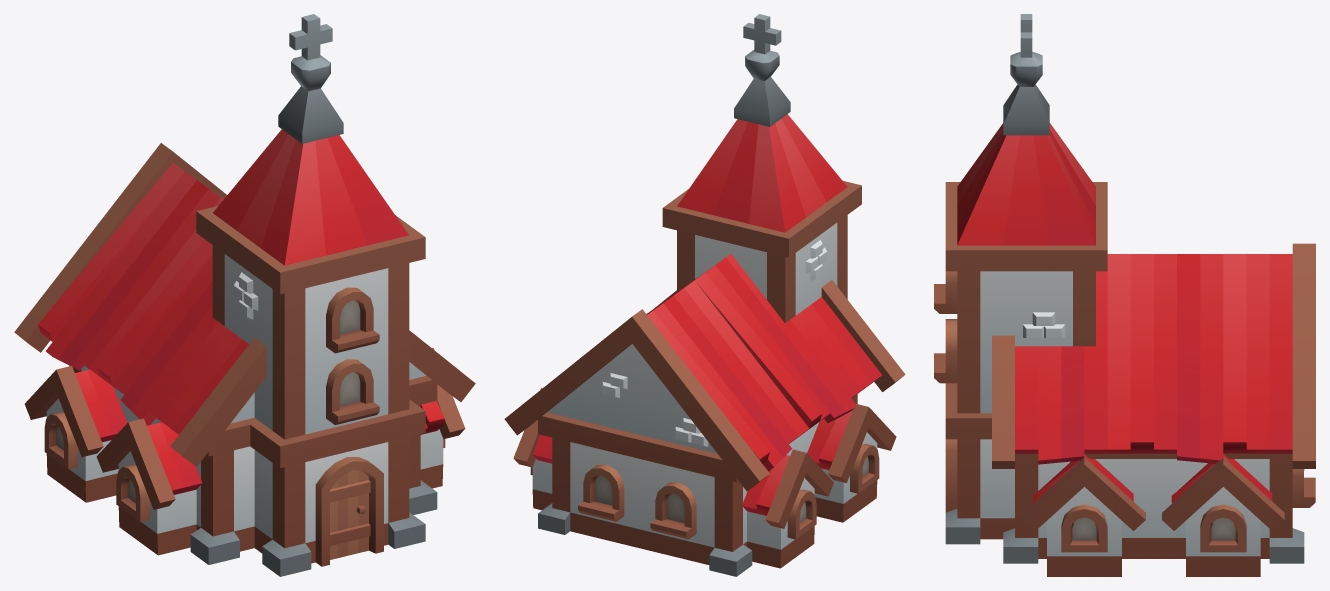
File: church.glb
3 renders of one model, left to right at view 1: azimuth 30°, elevation 25°; view 2: azimuth 150°, elevation 25°; view 3: azimuth 270°, elevation 25°, orthographic. The views are drawn at different scales.
Parts seen in each view (by area): view 1: church; view 2: church; view 3: church.
Boxes of the visible parts, bbox=[...] form: church: bbox=[14, 14, 475, 576]; church: bbox=[504, 14, 905, 576]; church: bbox=[934, 14, 1315, 576].
Size of the model in its own units: 0.5145 by 0.8225 by 0.5775.
1 material, 1 textured.
